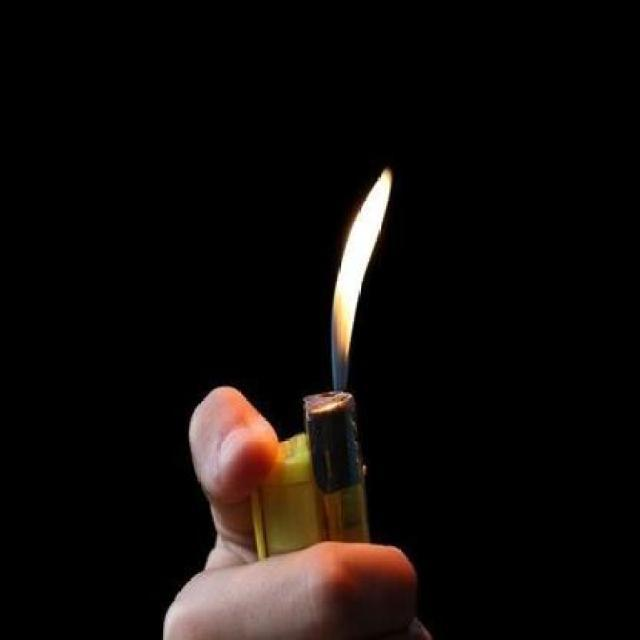Fire: (326, 164, 400, 396)
